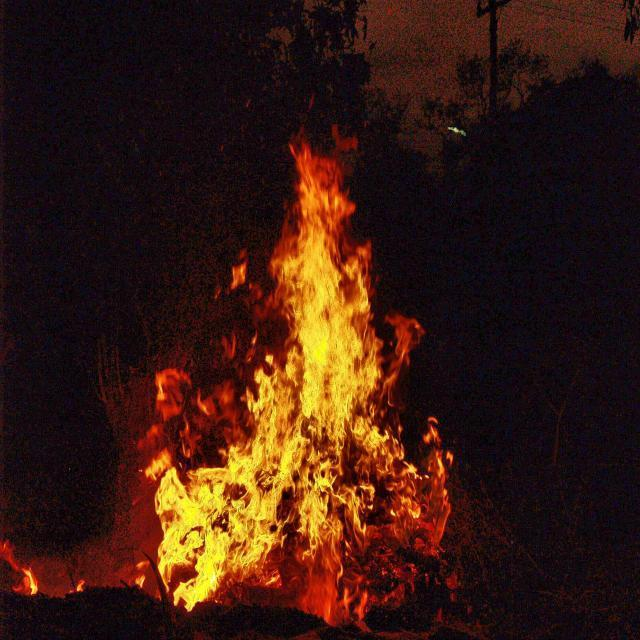Fire: (154, 143, 454, 606)
